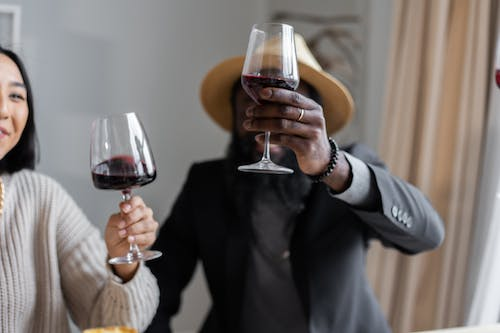alcohol: (88, 110, 163, 264), (236, 21, 301, 175)
